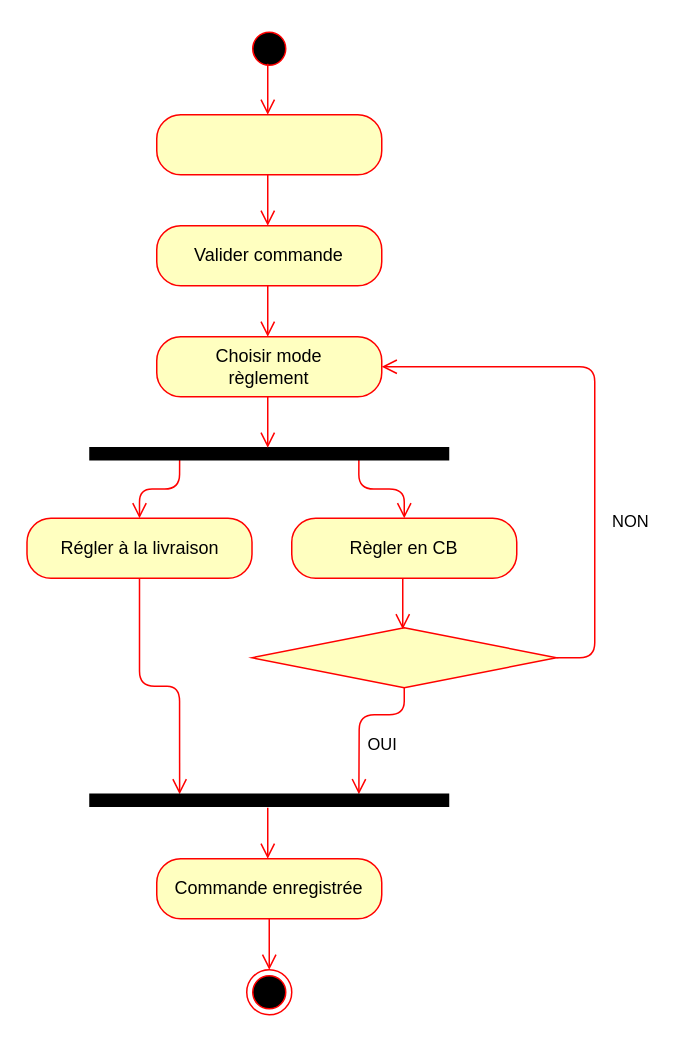
The diagram is 692 pixels wide and 1041 high, and some of its shapes have lost their labels. Here are the shapes that lost their labels. From the top down, the centre of each, then its label:
pixel 268 144: Passer commande
pixel 403 657: Paiement accepté ?
